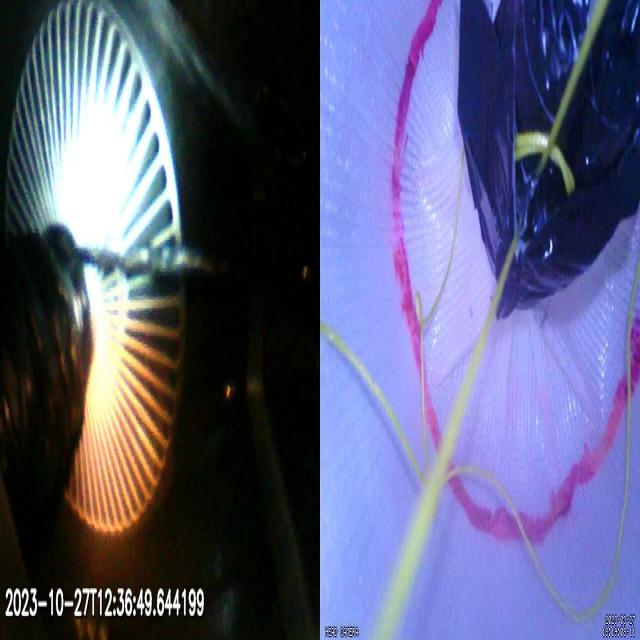red-circle: (390, 0, 640, 547)
